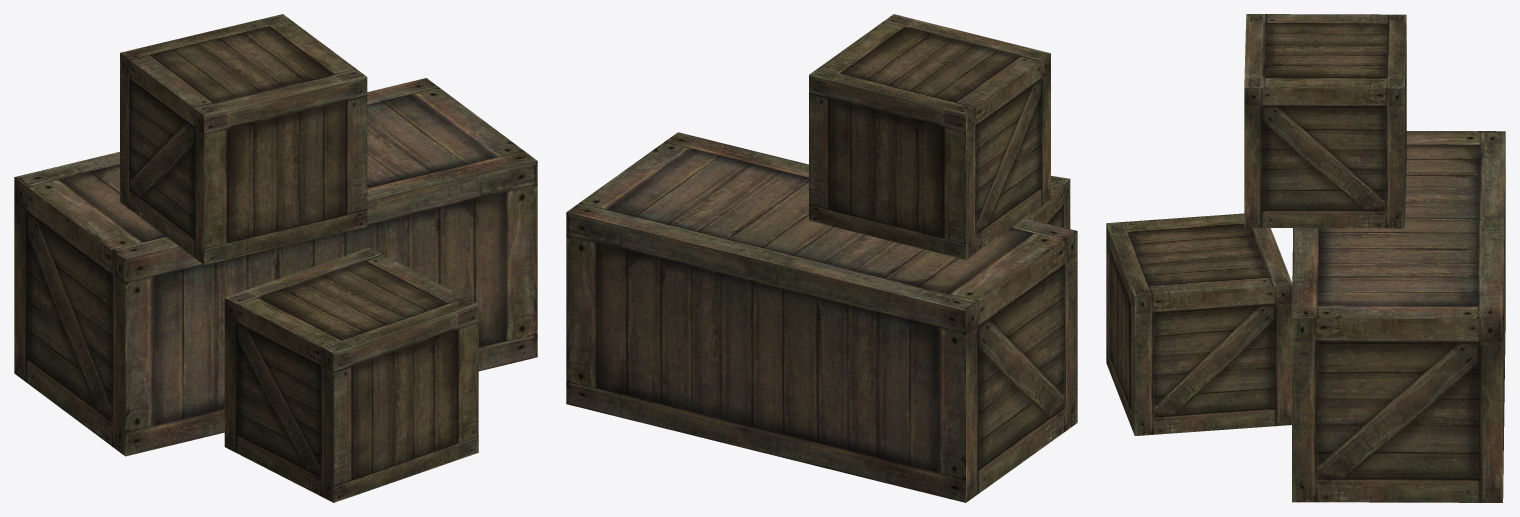
Rendered from thing_cagoboxset01.fbx.
3 views of the same model, side by side, from view 1: azimuth 30°, elevation 25°; view 2: azimuth 150°, elevation 25°; view 3: azimuth 270°, elevation 25° (orthographic). The views are drawn at different scales.
Visible parts, largest first — view 1: thing_cagoboxset01; view 2: thing_cagoboxset01; view 3: thing_cagoboxset01.
Part boxes in pixels (left/top/right/bottom): thing_cagoboxset01: left=14, top=14, right=537, bottom=502; thing_cagoboxset01: left=566, top=14, right=1077, bottom=502; thing_cagoboxset01: left=1106, top=14, right=1505, bottom=502.
Bounding box in the file's own units: 2.76 × 2.21 × 2.47.
